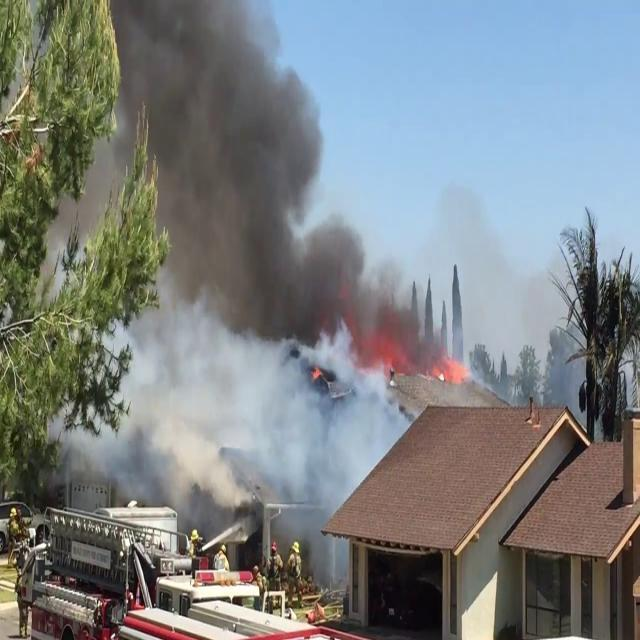Fire: (430, 346, 470, 384)
Smoke: (53, 1, 414, 547)
